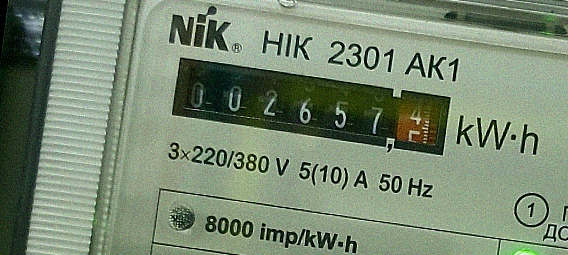0: (187, 79, 207, 109), (225, 82, 243, 113)
2: (260, 87, 280, 118)
4: (407, 98, 425, 126)
5: (331, 98, 350, 130), (405, 127, 422, 144)
6: (296, 94, 314, 125)
7: (366, 103, 385, 136)
screen: (160, 45, 463, 168)
